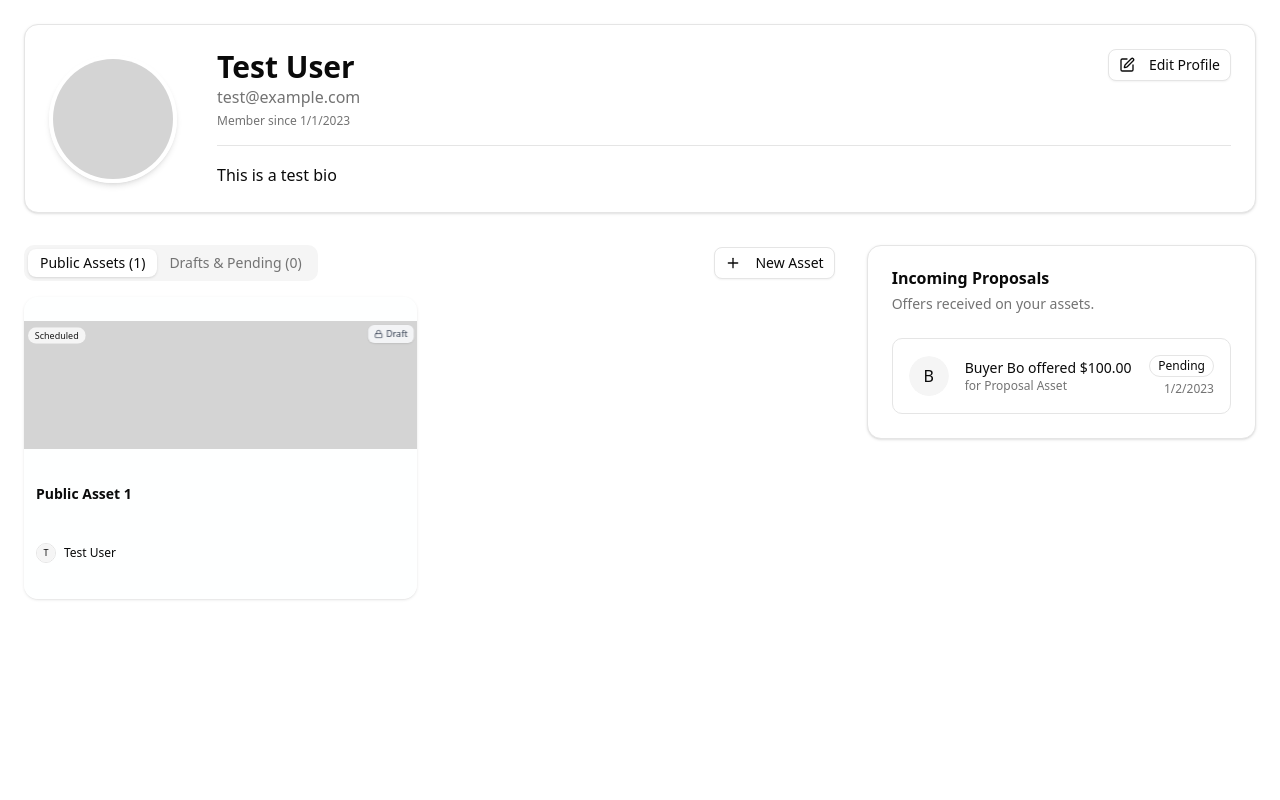
Test: Feature 22 - Enhanced Profile Page › Edit Profile dialog opens
Click the button "Edit Profile".
click(1169, 65)  # box [1108, 49, 1231, 81]
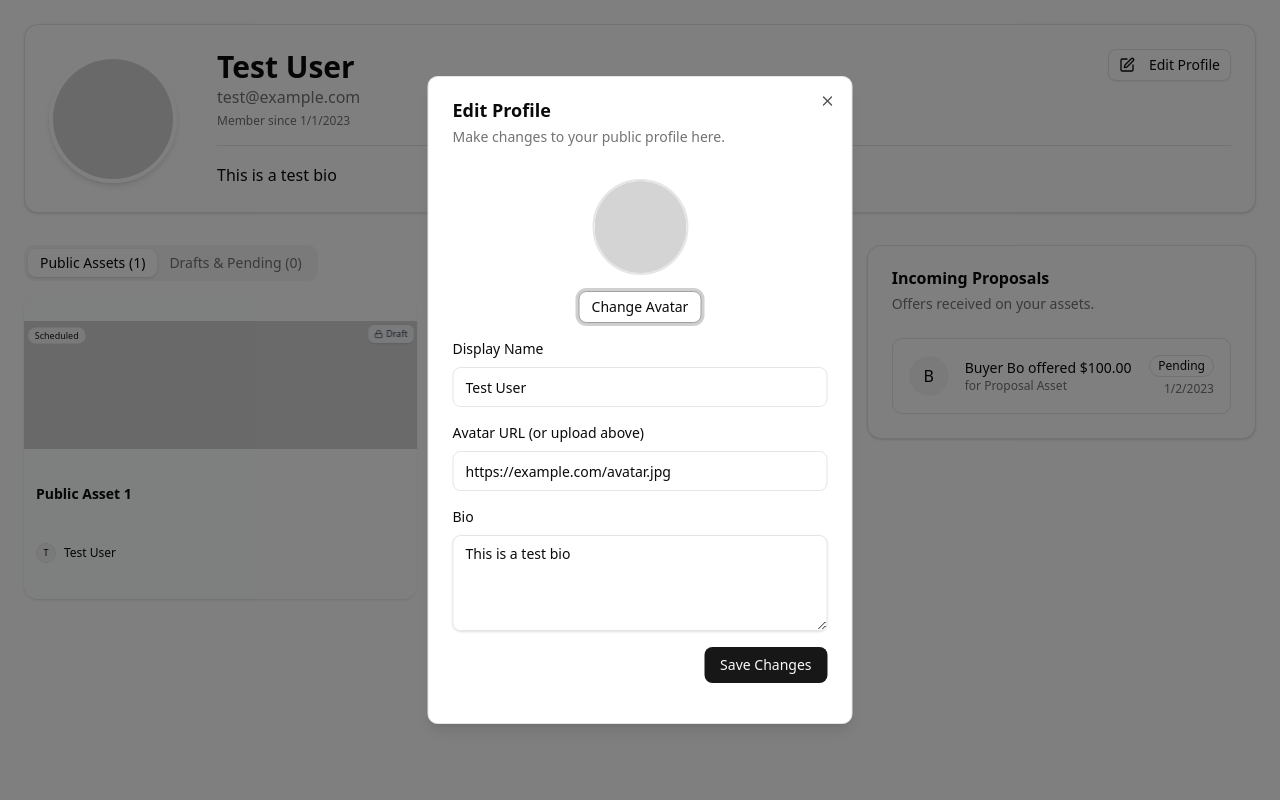
Expected: the dialog is shown, [428, 76, 852, 724]
Expected: the field labelled "Display Name" holds "Test User", [452, 367, 828, 407]
